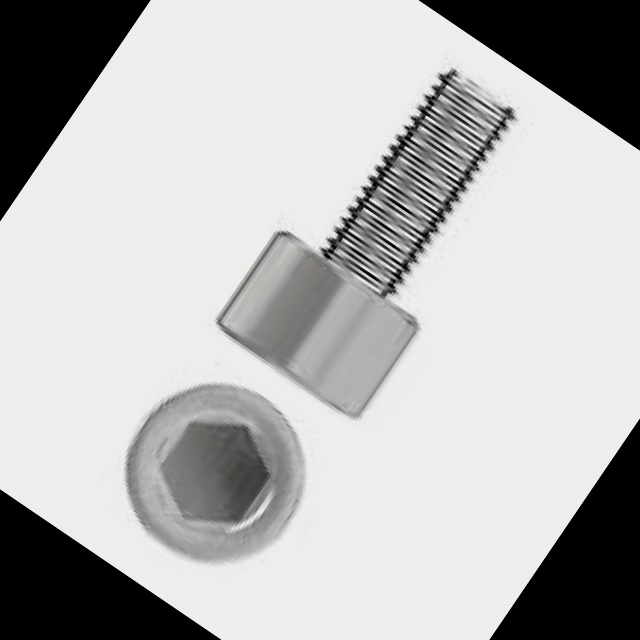allen: (90, 347, 341, 598)
